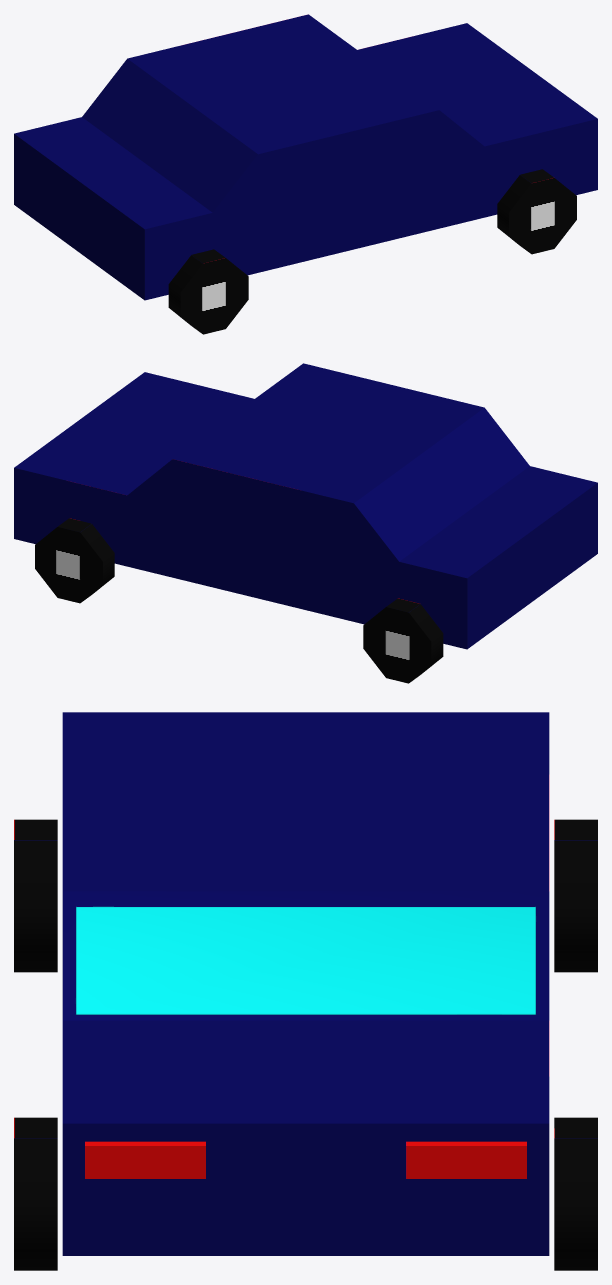
Rendered from TManCar.fbx.
3 views of the same model, one above another, from view 1: azimuth 30°, elevation 25°; view 2: azimuth 150°, elevation 25°; view 3: azimuth 270°, elevation 25° (orthographic). The views are drawn at different scales.
Visible parts, largest first — view 1: Cube; view 2: Cube; view 3: Cube.
Boxes of the visible parts, <box> form: Cube: <box>14,14,597,334</box>; Cube: <box>14,363,597,683</box>; Cube: <box>14,712,597,1270</box>.
Size of the model in its own units: 2024 by 650 by 1200.
